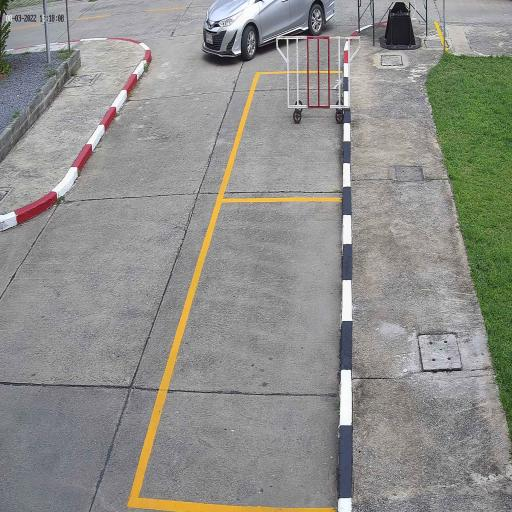car: (202, 0, 336, 59)
